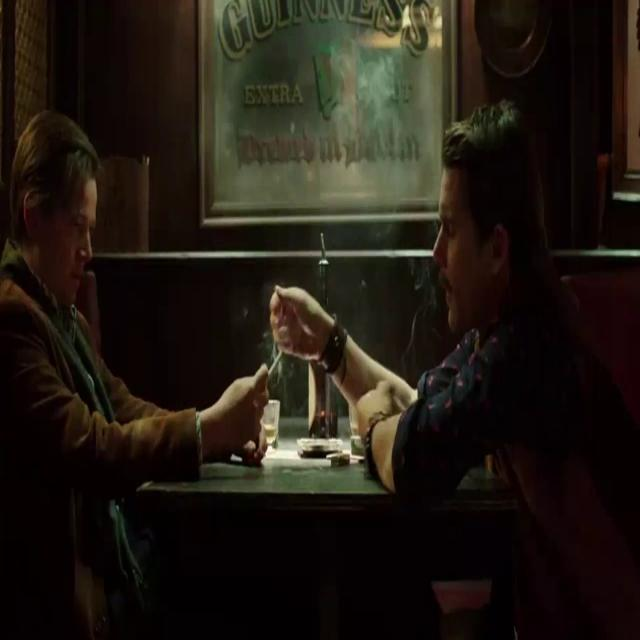Smooking: (264, 330, 288, 390)
